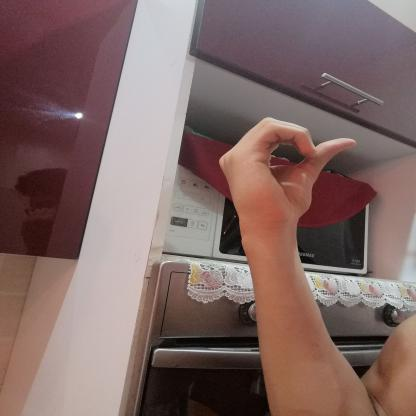WAW: (205, 109, 370, 245)
